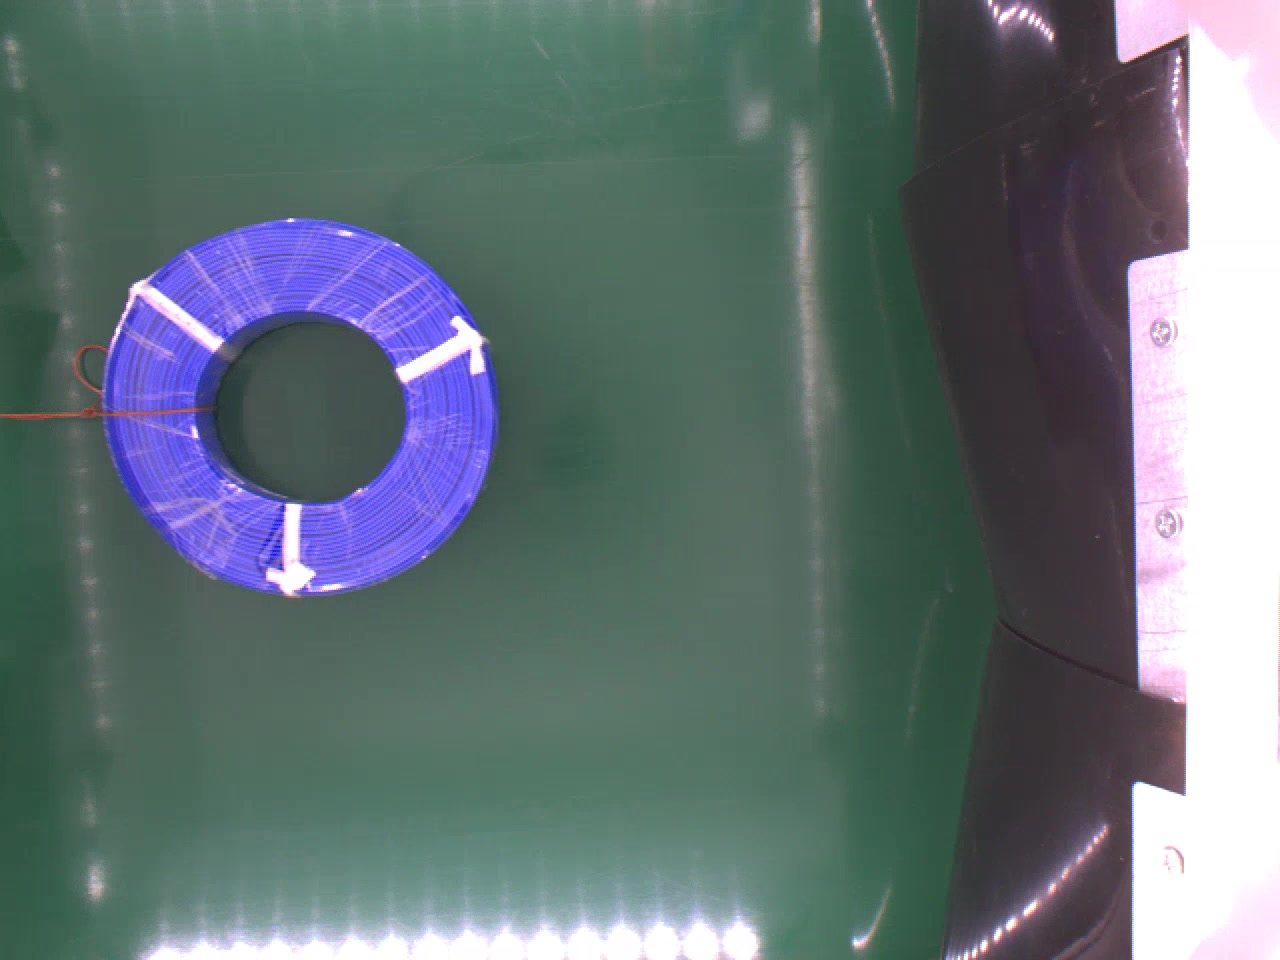blue: (103, 215, 495, 593)
